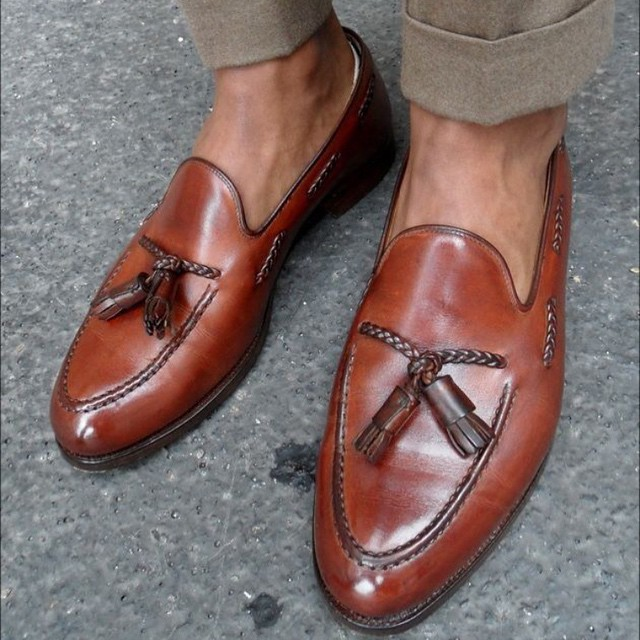sneaker: (16, 6, 429, 508), (288, 58, 587, 639)
